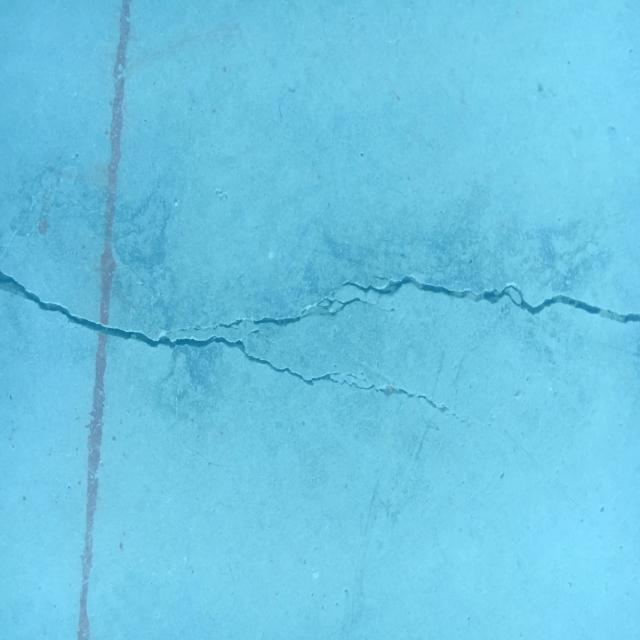crack: (0, 269, 448, 413), (341, 274, 640, 325), (248, 328, 262, 337)
